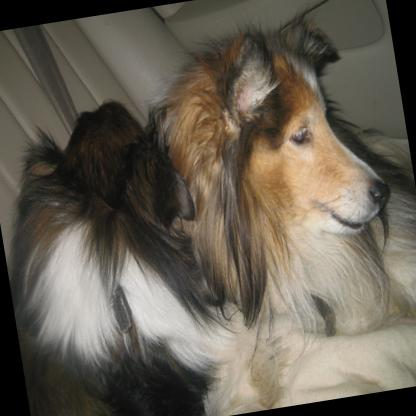Shetland_sheepdog: (127, 3, 412, 356)
